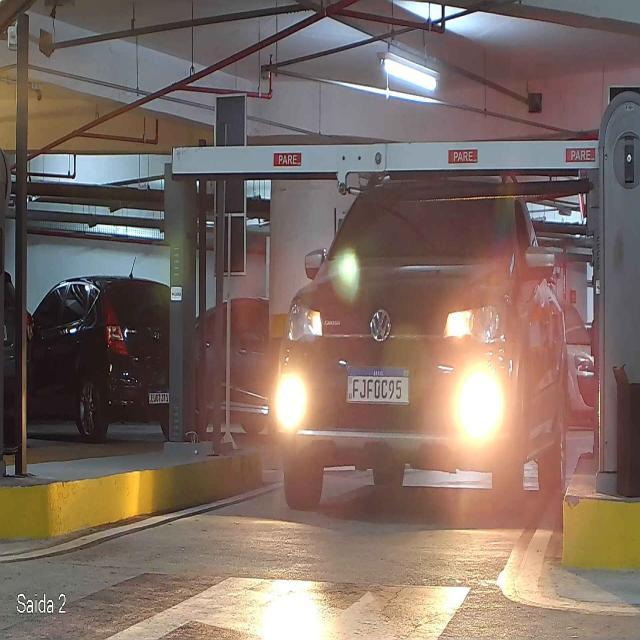mercosul_plate: (345, 366, 411, 406)
